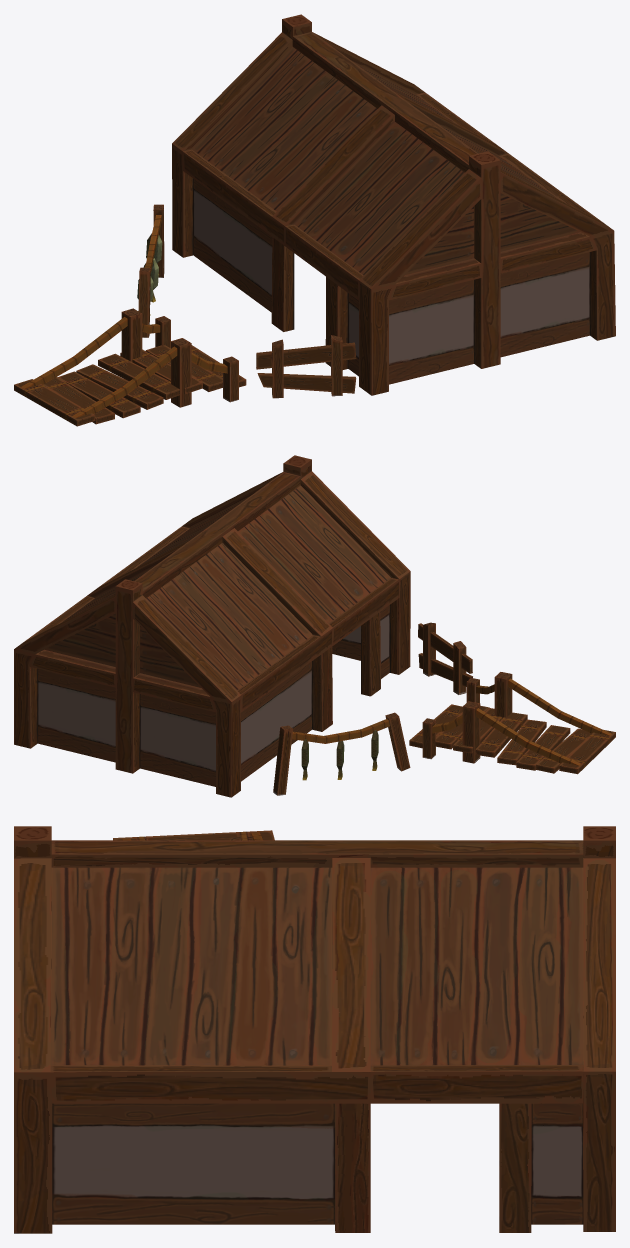
Rendered from FISHHOUSEEX.fbx.
3 views of the same model, one above another, from view 1: azimuth 30°, elevation 25°; view 2: azimuth 150°, elevation 25°; view 3: azimuth 270°, elevation 25° (orthographic). The views are drawn at different scales.
Visible parts, largest first — view 1: Cube.130, Cube.140, Cube.125, Cube.123; view 2: Cube.130, Cube.140, Cube.125, Cube.123; view 3: Cube.130, Cube.140.
Boxes of the visible parts, box(x1,y1,x2,y2) form: Cube.130: box(172, 14, 615, 395); Cube.140: box(14, 342, 356, 426); Cube.125: box(121, 204, 342, 407); Cube.123: box(21, 215, 227, 417); Cube.130: box(14, 455, 410, 797); Cube.140: box(409, 623, 615, 774); Cube.125: box(273, 622, 512, 795); Cube.123: box(292, 678, 611, 765); Cube.130: box(14, 826, 615, 1233); Cube.140: box(113, 830, 274, 840).
Size of the model in its own units: 870 by 334 by 581.
